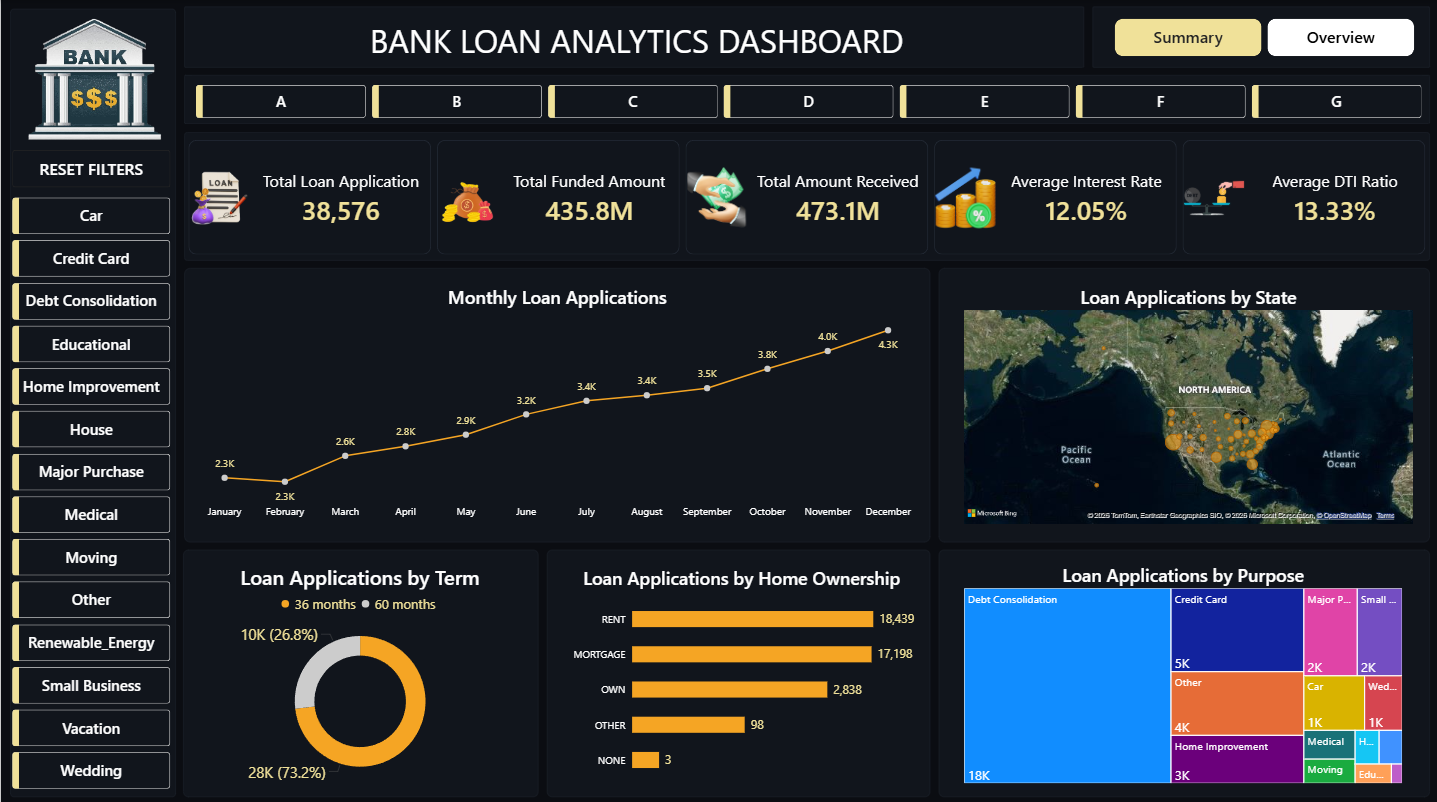

This screenshot's page, from the dashboard's own definition file:
{"tool":"powerbi","page":{"name":"Overview","canvas":[1920,1080],"ordinal":1},"visuals":[{"type":"cardVisual","fields":{"Data":["financial_loan.Total Loan Application","financial_loan.Total Funded Amount","financial_loan.Total Amount Received","financial_loan.Average Interest Rate","financial_loan.Average DTI Rate"]},"box":[250,187.8,1653.3,153.3],"z":0},{"type":"image","box":[0,0,250,210],"z":1000},{"type":"advancedSlicerVisual","fields":{"Values":["financial_loan.PURPOSE"]},"box":[14.3,264.3,211.4,802.9],"z":2000},{"type":"advancedSlicerVisual","fields":{"Values":["financial_loan.GRADE"]},"box":[260,113,1643,44],"z":3000},{"type":"actionButton","box":[14.3,200,211.4,50],"z":4000},{"type":"textbox","box":[250,24.3,1197.1,68.6],"z":5000},{"type":"pageNavigator","box":[1488.6,24.3,400,50],"z":6000},{"type":"lineChart","title":"Monthly Loan Applications","fields":{"Category":["financial_loan.ISSUE_DATE.Variation.Date Hierarchy.Month"],"Y":["financial_loan.Total Loan Application"]},"box":[250,365.7,985.7,348.6],"z":7000},{"type":"donutChart","title":"Loan Applications by Term","fields":{"Category":["financial_loan.TERM"],"Y":["financial_loan.Total Loan Application"]},"box":[250,738.6,458.6,328.6],"z":8000},{"type":"clusteredBarChart","title":"Loan Applications by Home Ownership","fields":{"Category":["financial_loan.HOME_OWNERSHIP"],"Y":["financial_loan.Total Loan Application"]},"box":[742.9,741.4,492.9,321.4],"z":9000},{"type":"treemap","title":"Loan Applications by Purpose","fields":{"Group":["financial_loan.PURPOSE"],"Values":["financial_loan.Total Loan Application"]},"box":[1271.4,738.6,617.1,324.3],"z":10000},{"type":"map","title":"Loan Applications by State","fields":{"Category":["financial_loan.ADDRESS_STATE"],"Size":["financial_loan.Total Loan Application"]},"box":[1271.4,365.7,631.4,350],"z":11000}]}

Visuals, with their boxes in screenshot pixels (x1, y1, x2, y2), scaled from the page's 1920x1080 canvas onto the 1437x802 screenshot:
cardVisual - financial_loan.Total Loan Application x financial_loan.Total Funded Amount: (left=187, top=139, right=1425, bottom=253)
image: (left=0, top=0, right=187, bottom=156)
advancedSlicerVisual - financial_loan.PURPOSE: (left=11, top=196, right=169, bottom=792)
advancedSlicerVisual - financial_loan.GRADE: (left=195, top=84, right=1424, bottom=117)
actionButton: (left=11, top=149, right=169, bottom=186)
textbox: (left=187, top=18, right=1083, bottom=69)
pageNavigator: (left=1114, top=18, right=1413, bottom=55)
"Monthly Loan Applications" lineChart: (left=187, top=272, right=925, bottom=530)
"Loan Applications by Term" donutChart: (left=187, top=548, right=530, bottom=792)
"Loan Applications by Home Ownership" clusteredBarChart: (left=556, top=551, right=925, bottom=789)
"Loan Applications by Purpose" treemap: (left=952, top=548, right=1413, bottom=789)
"Loan Applications by State" map: (left=952, top=272, right=1424, bottom=531)
